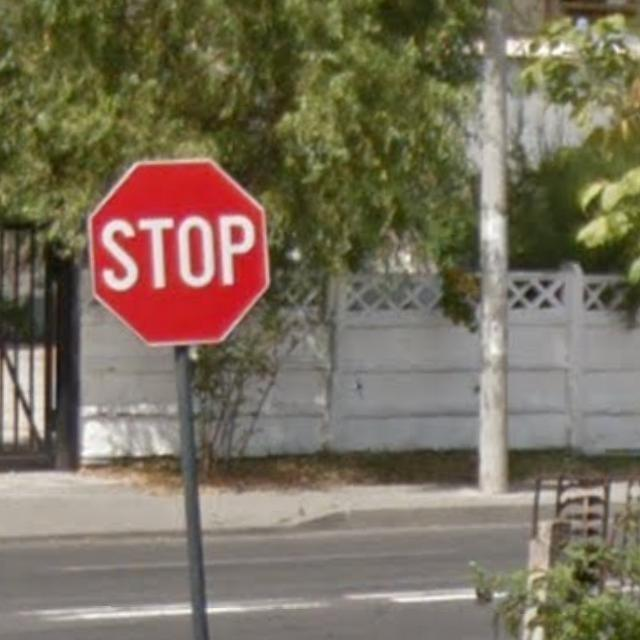prio_stop: (88, 160, 269, 346)
